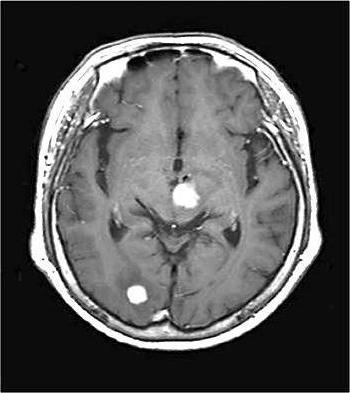Normal_Brain: (17, 3, 350, 393)
